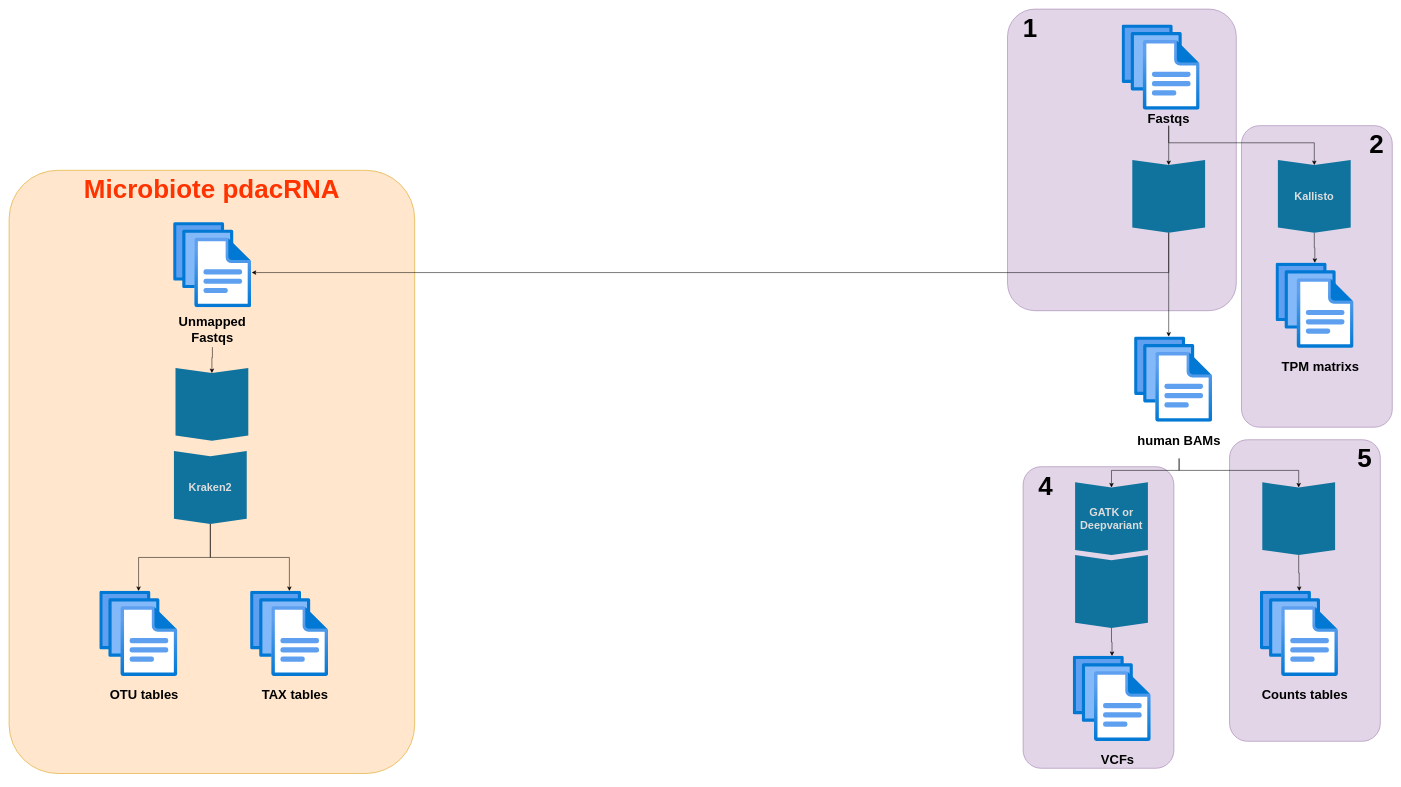
Image size: 1401x787. Some labels were removed from this diagram. The shapes that lost their labels are listed below. From the top down, each one's centre as x and y in pixels, then its label:
point 1168,196: STAR
point 211,404: KNEADATA
point 1298,518: FCount
point 1111,591: VEP
